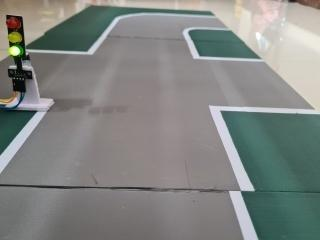green: (3, 10, 32, 73)
